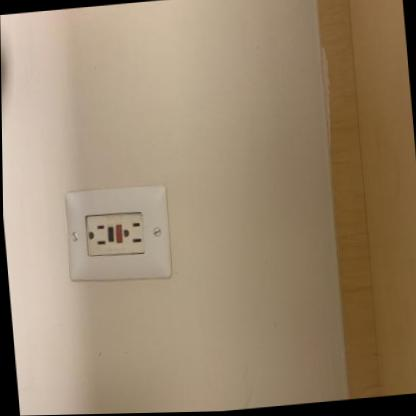OUTLET: (64, 180, 172, 287)
